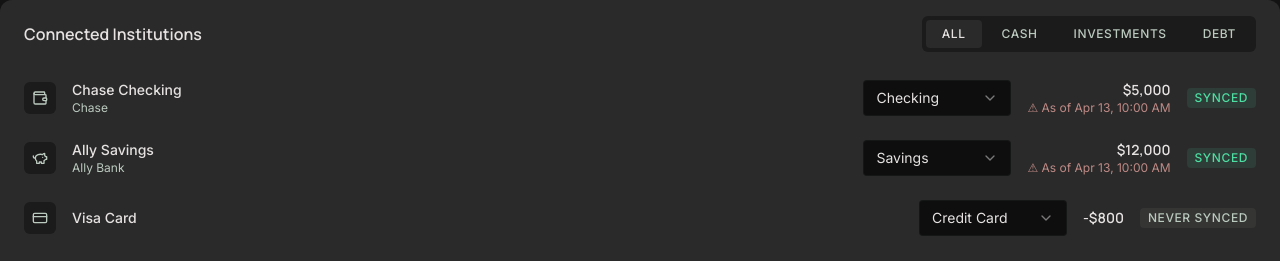
Scenario: ConnectedInstitutions › clicking the account name enters inline edit mode
Click the button with aria-label "Rename account Chase Checking" at (136, 90), box [72, 80, 200, 100]
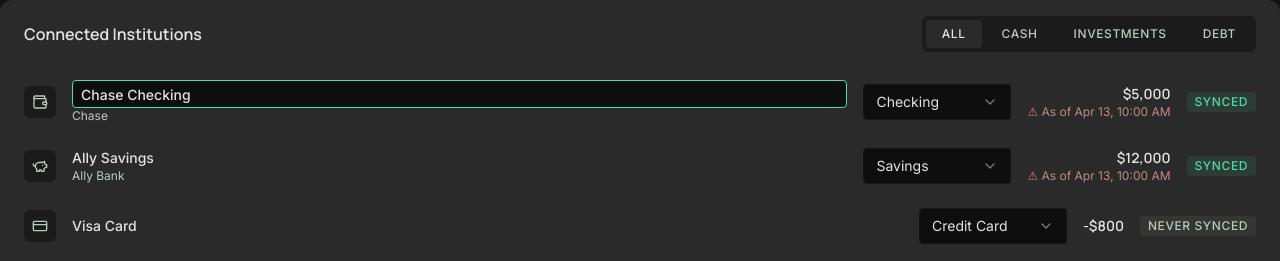
Result: the field named "Account name for Chase Checking" holds "Chase Checking" at [72, 80, 848, 108]
